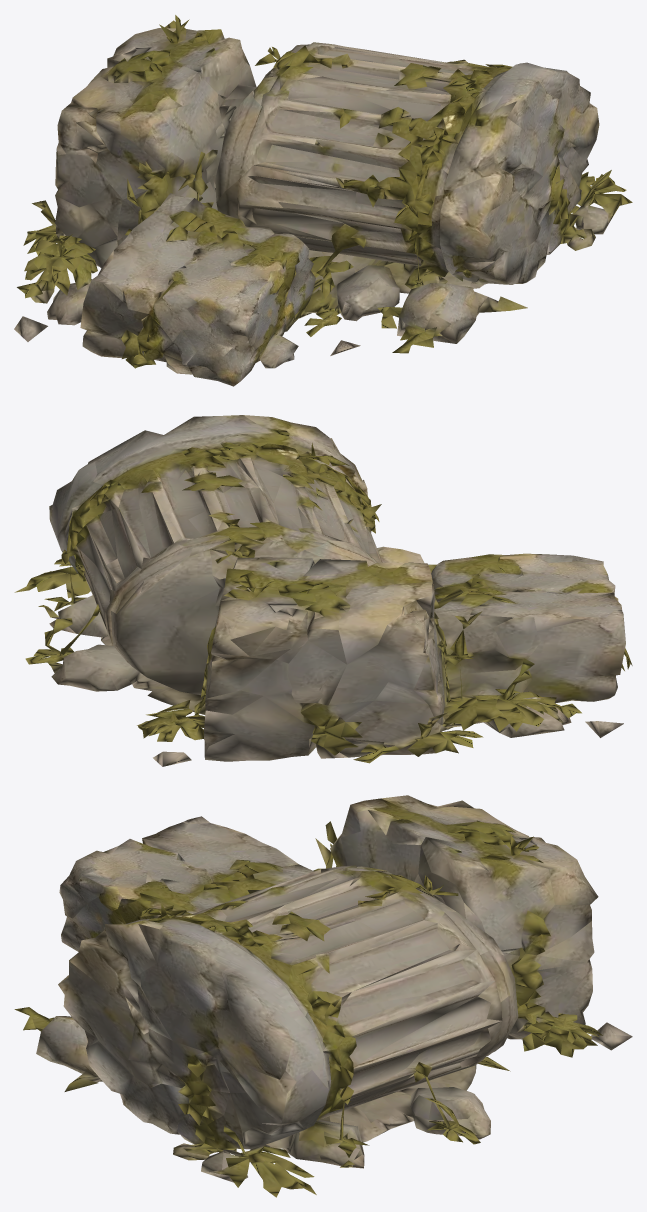
Rendered from rubble_b.glb.
The picture shows the model from 3 angles, top to bottom: view 1: azimuth 30°, elevation 25°; view 2: azimuth 150°, elevation 25°; view 3: azimuth 270°, elevation 25°; orthographic projection. The views are drawn at different scales.
Visible parts, largest first — view 1: rubble_b__rubble; view 2: rubble_b__rubble; view 3: rubble_b__rubble.
Boxes of the visible parts, x1=… form: rubble_b__rubble: x1=14, y1=15, x2=632, y2=386; rubble_b__rubble: x1=14, y1=415, x2=632, y2=766; rubble_b__rubble: x1=14, y1=795, x2=632, y2=1197.
Bounding box in the file's own units: 2.15 × 0.6 × 1.77.
Materials: 1 (1 with a texture image).
